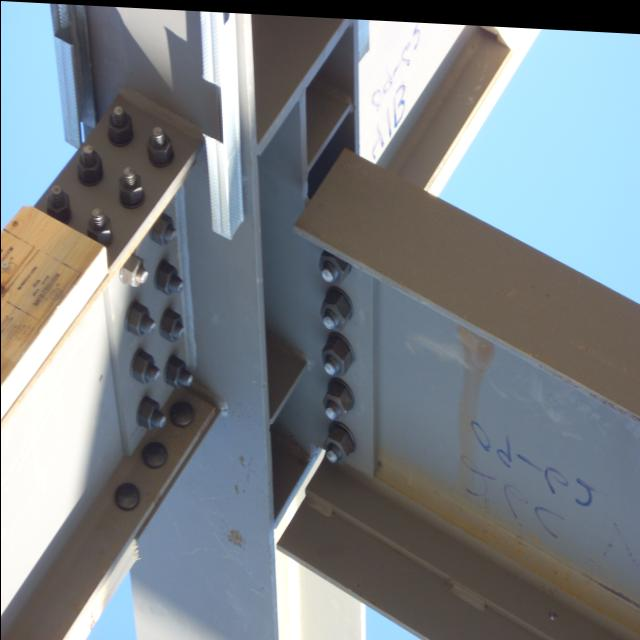Regular bolt: (321, 289, 352, 328), (323, 335, 353, 374), (323, 382, 353, 419), (324, 424, 353, 461), (319, 250, 349, 282), (119, 168, 144, 205), (147, 126, 172, 162), (156, 261, 183, 294), (87, 209, 113, 243), (78, 146, 103, 181), (108, 106, 132, 142), (122, 252, 148, 285), (151, 212, 175, 243), (133, 350, 155, 383), (47, 186, 70, 217), (129, 300, 149, 335), (163, 310, 185, 341), (140, 397, 160, 428), (167, 355, 187, 386)
